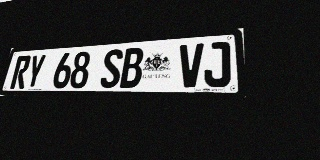6: (52, 52, 75, 88)
8: (69, 51, 92, 88)
B: (120, 47, 144, 88)
J: (204, 41, 231, 87)
R: (10, 55, 32, 89)
S: (99, 49, 124, 88)
V: (178, 43, 204, 87)
Y: (24, 54, 47, 89)
